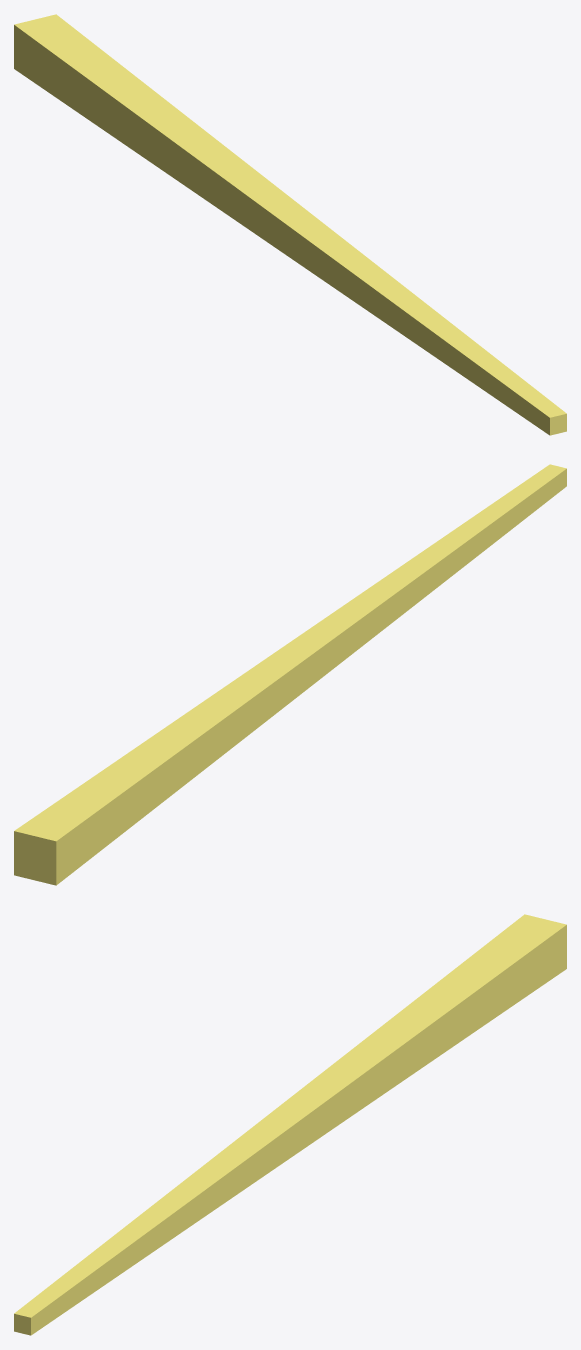
The model's file is Chopstick01.fbx.
The picture shows the model from 3 angles, top to bottom: view 1: azimuth 30°, elevation 25°; view 2: azimuth 150°, elevation 25°; view 3: azimuth 330°, elevation 25°; orthographic projection.
Parts seen in each view (by area): view 1: Utensils01_Uv_v001:ChopStic01_Modelling_v001:ChopStick01_Bod; view 2: Utensils01_Uv_v001:ChopStic01_Modelling_v001:ChopStick01_Bod; view 3: Utensils01_Uv_v001:ChopStic01_Modelling_v001:ChopStick01_Bod.
Boxes of the visible parts, x1,y1,x2,y2 form: Utensils01_Uv_v001:ChopStic01_Modelling_v001:ChopStick01_Bod: [14, 14, 566, 435]; Utensils01_Uv_v001:ChopStic01_Modelling_v001:ChopStick01_Bod: [14, 464, 566, 885]; Utensils01_Uv_v001:ChopStic01_Modelling_v001:ChopStick01_Bod: [14, 914, 566, 1335].
Bounding box in the file's own units: 1.34 × 1.34 × 28.65.
Materials: 1 (1 with a texture image).
